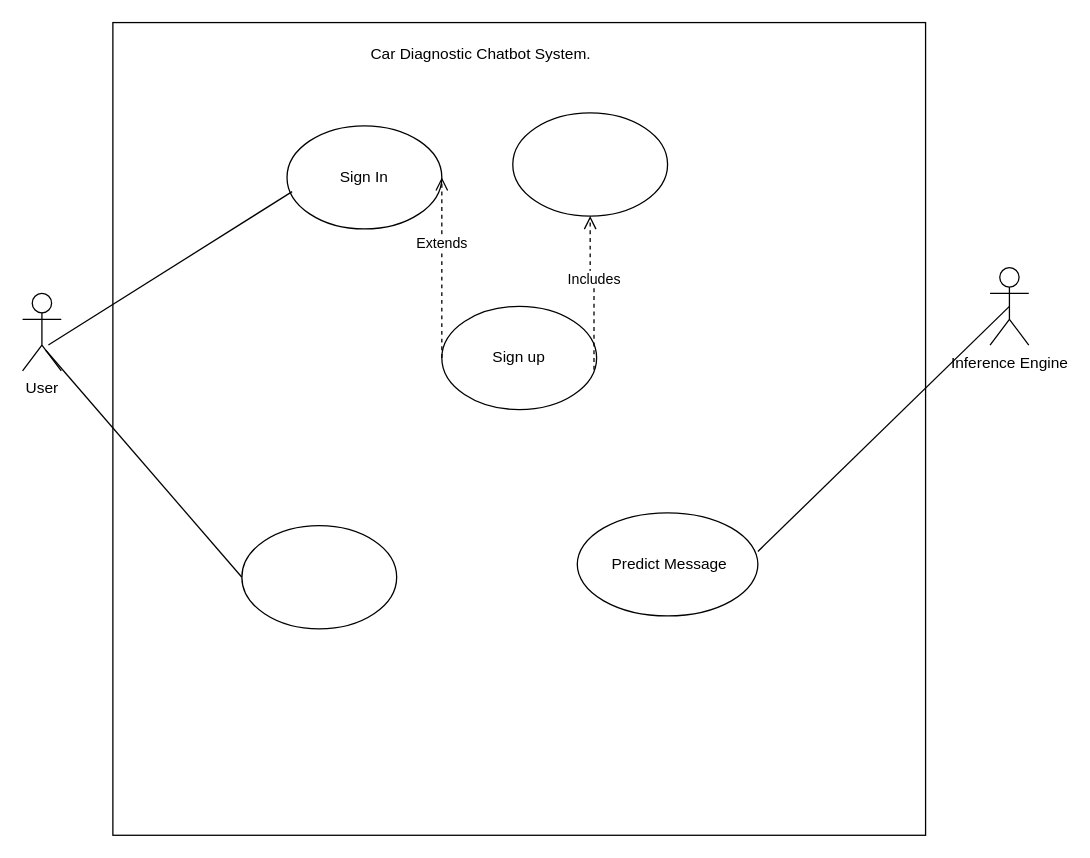
Some shapes in this 1090 by 858 pixel diagram are drawn without their labels. Here are the shapes that lost their labels. From the top down, the centre of each, then its label:
At [589,164]: "Get Personal Information".
At [319,576]: "Send Message".
